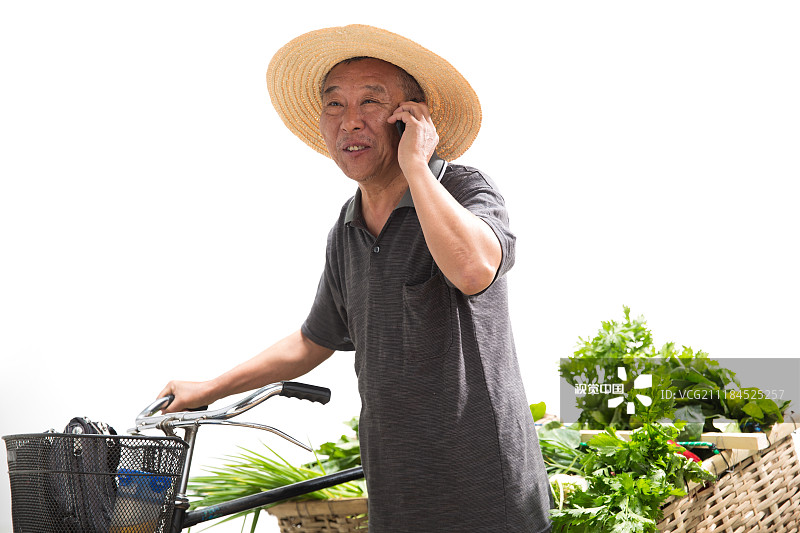calling: (378, 91, 455, 183)
no-phone: (136, 358, 226, 417)
